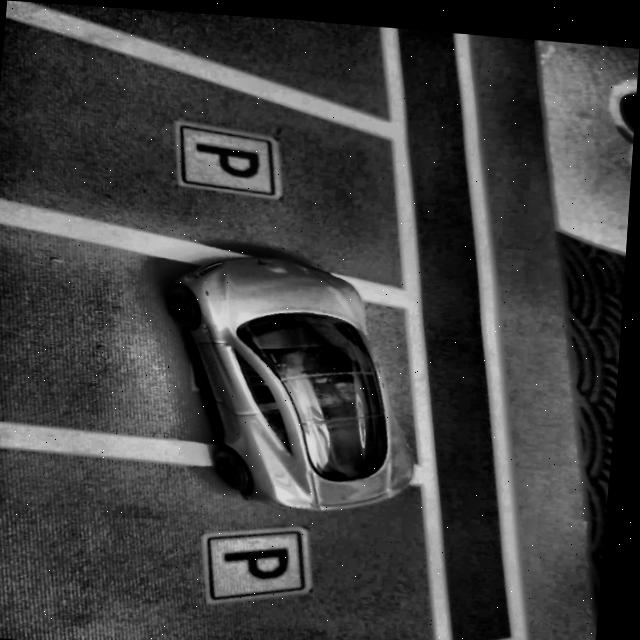car: (154, 244, 436, 514)
